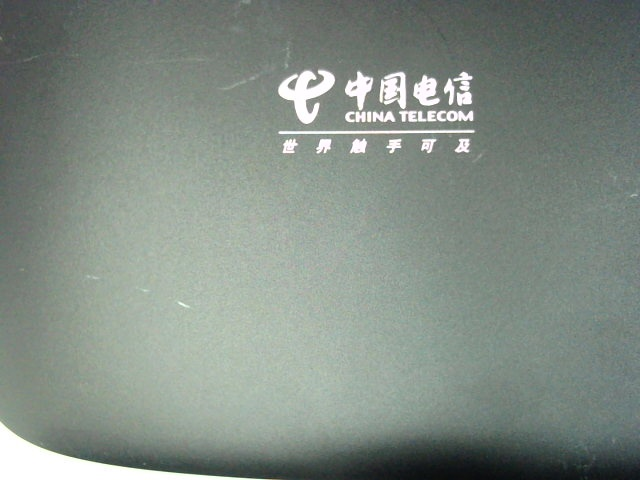AB_ChinaTelecom: (265, 68, 491, 156)
